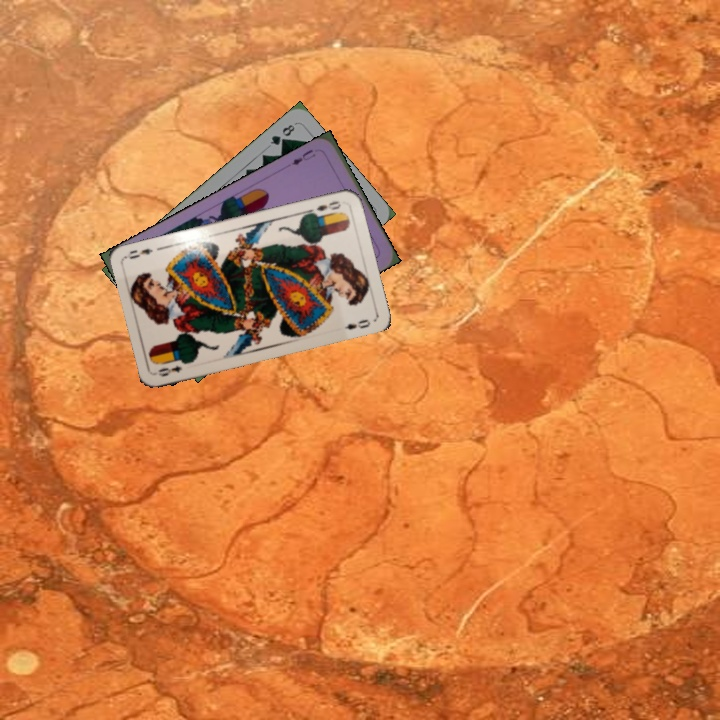EO: (306, 197, 343, 219), (154, 361, 185, 379)
EU: (287, 145, 318, 168)
G8: (266, 120, 298, 148)
